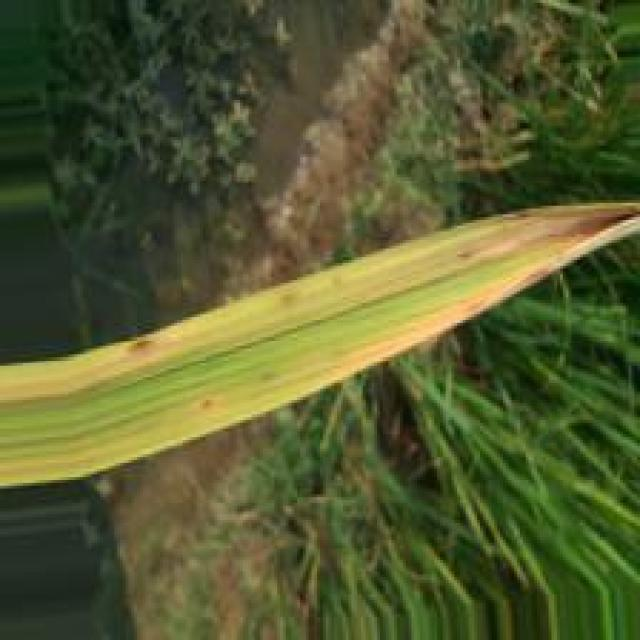Bacterial_Leaf_Blight: (0, 202, 637, 486)
